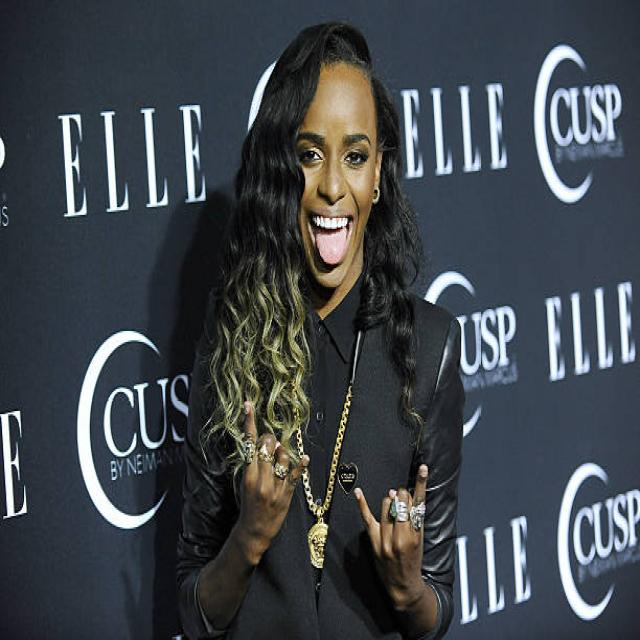tongue: (315, 223, 350, 268)
